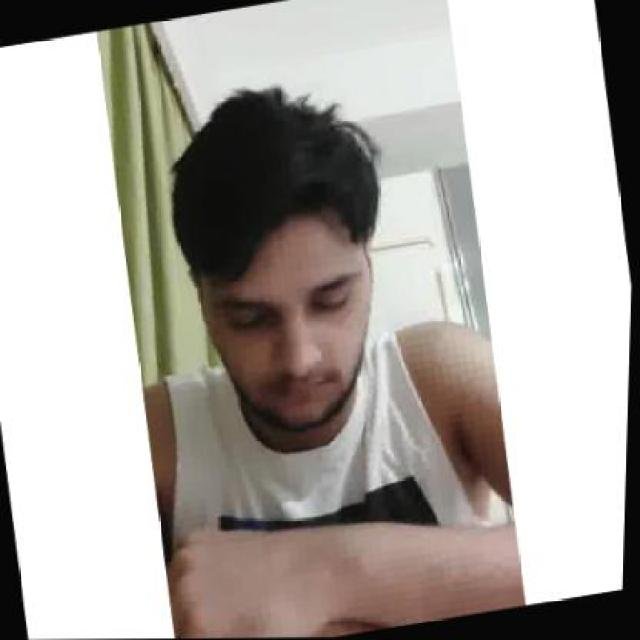inattentif: (153, 73, 405, 444)
